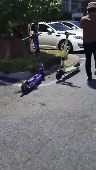beam: (20, 31, 49, 95)
gcooter: (55, 29, 83, 82)
